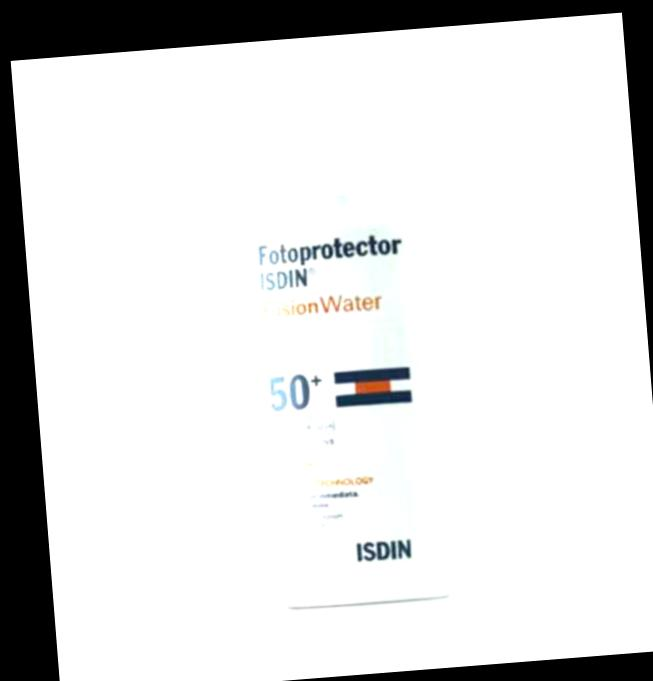cosmetic: (226, 88, 473, 615)
